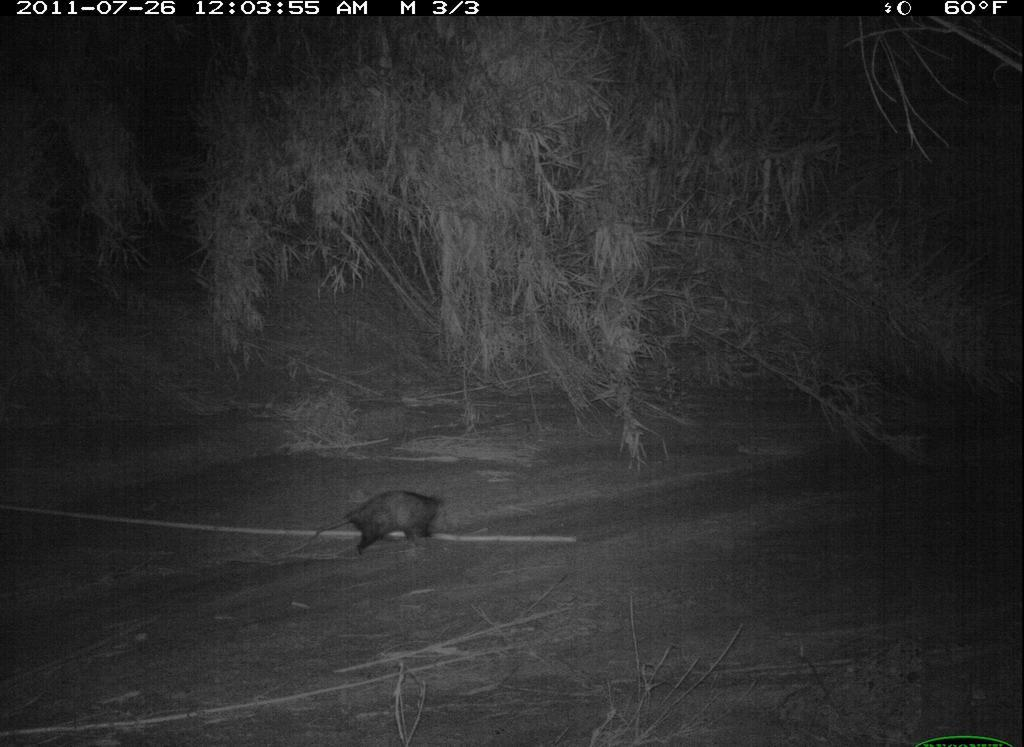opossum: (304, 481, 461, 573)
